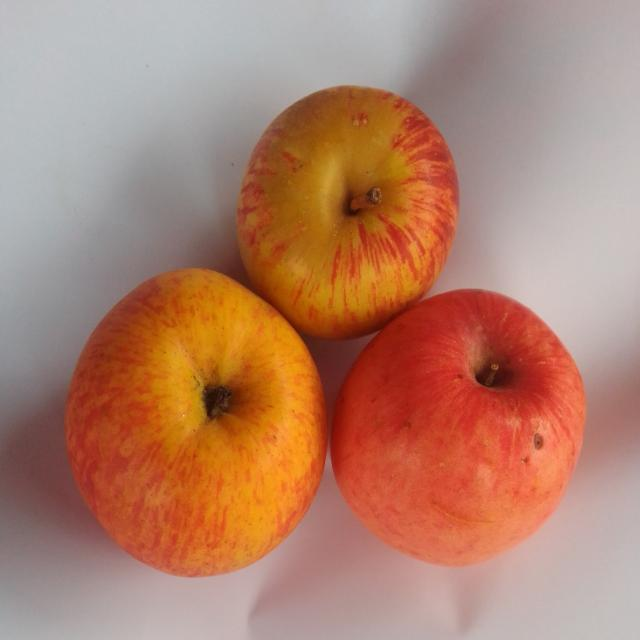Fresh Apple: (63, 263, 327, 582), (333, 285, 587, 563), (235, 80, 458, 313)
